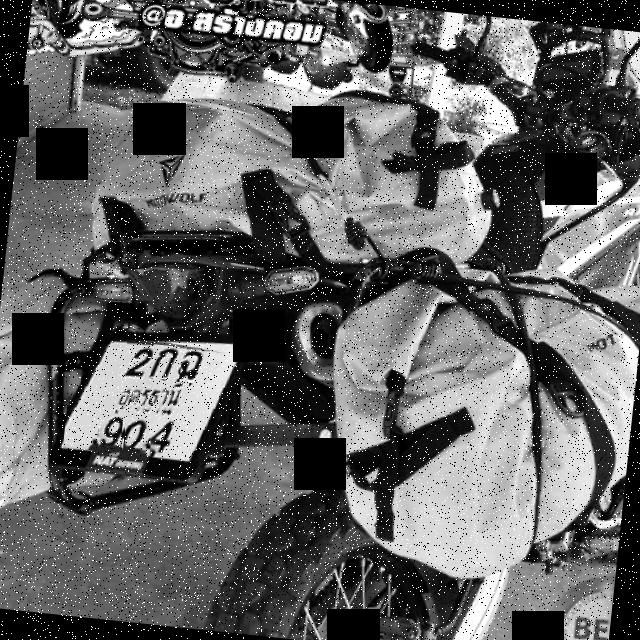letters: (95, 412, 123, 456), (123, 345, 155, 382), (148, 416, 178, 454), (122, 416, 151, 454), (150, 344, 179, 381), (180, 350, 207, 384)
license-plate: (62, 341, 238, 460)
province: (100, 374, 189, 416)
